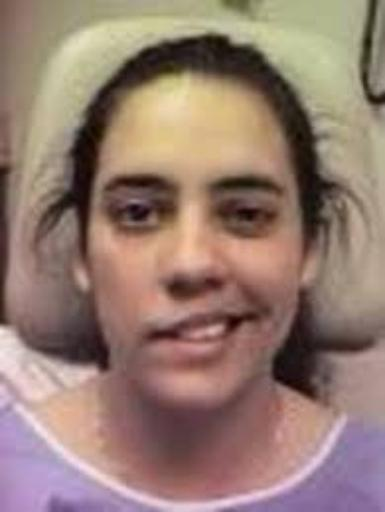left_eye: (220, 203, 277, 232)
left_lip_corner: (235, 307, 263, 332)
right_eye: (111, 202, 167, 234)
right_lip_corner: (138, 327, 164, 351)
